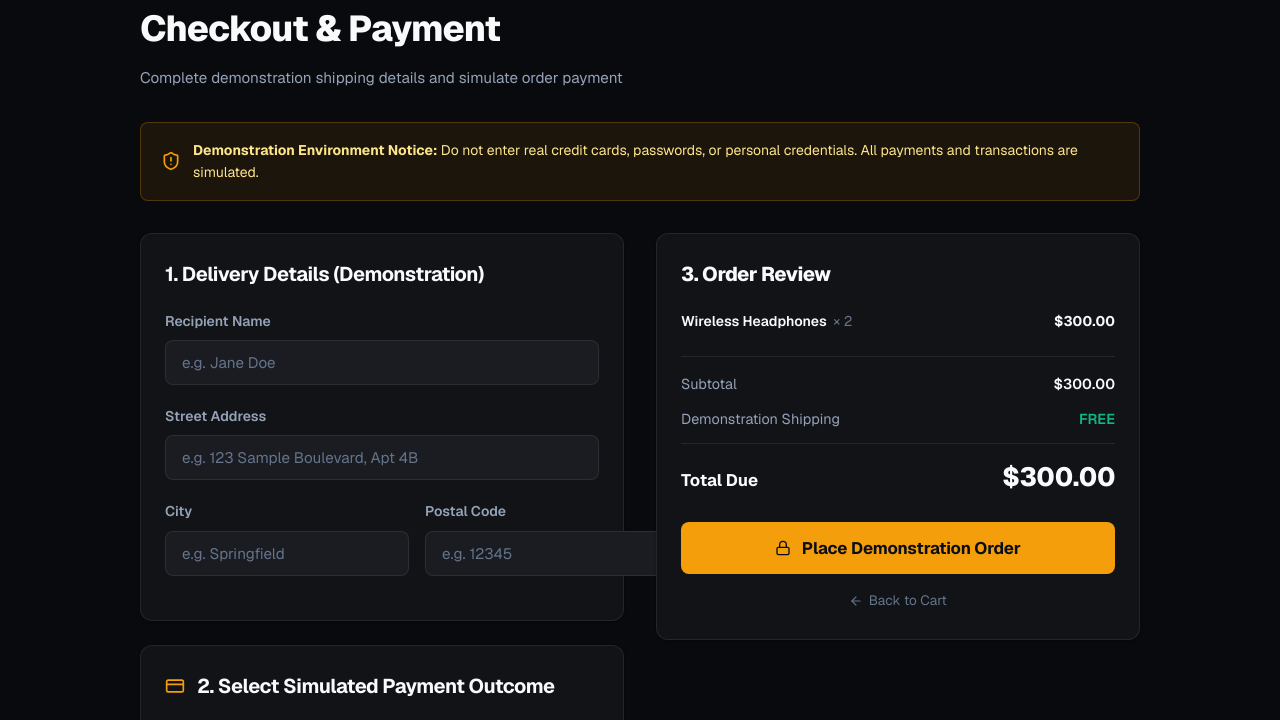
Test: Phase 5: Checkout & Simulated Payment Frontend Tests › T-CHK-UI-01: Submitting checkout with empty fields displays inline validation errors
This screenshot has width=1280, height=720.
Check: the text "Wireless Headphones" is shown, box [681,312,827,330]
Click the button "Place Demonstration Order" at [898, 548], box [681,522,1115,574]
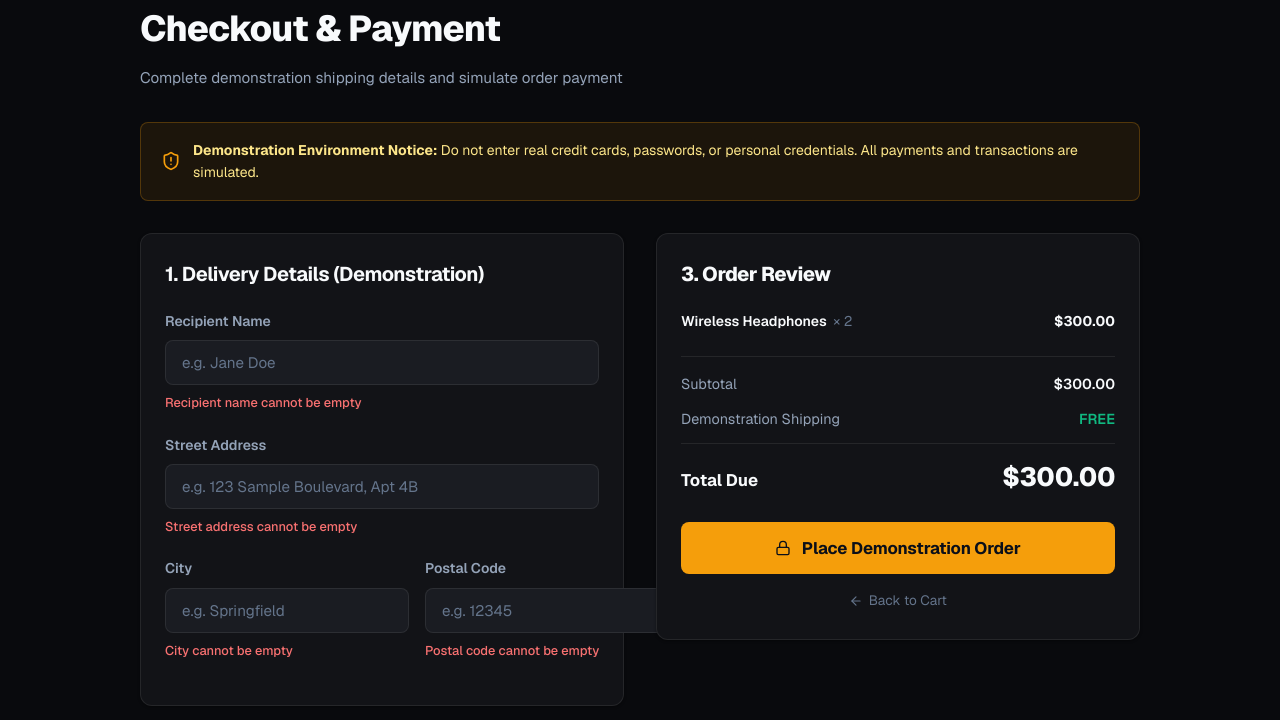
Check: the text "Recipient name cannot be empty" is shown, box [165,394,362,411]
Check: the text "Street address cannot be empty" is shown, box [165,518,357,535]
Check: the text "City cannot be empty" is shown, box [165,642,293,659]
